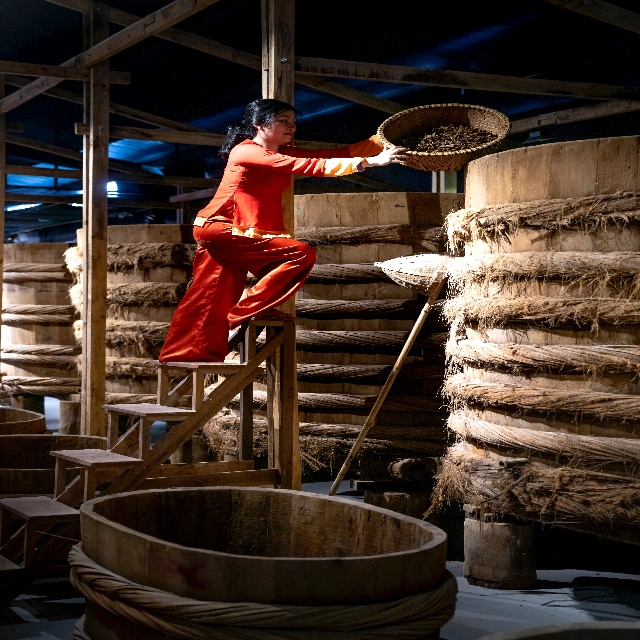Sin_guantes: (377, 144, 410, 166)
